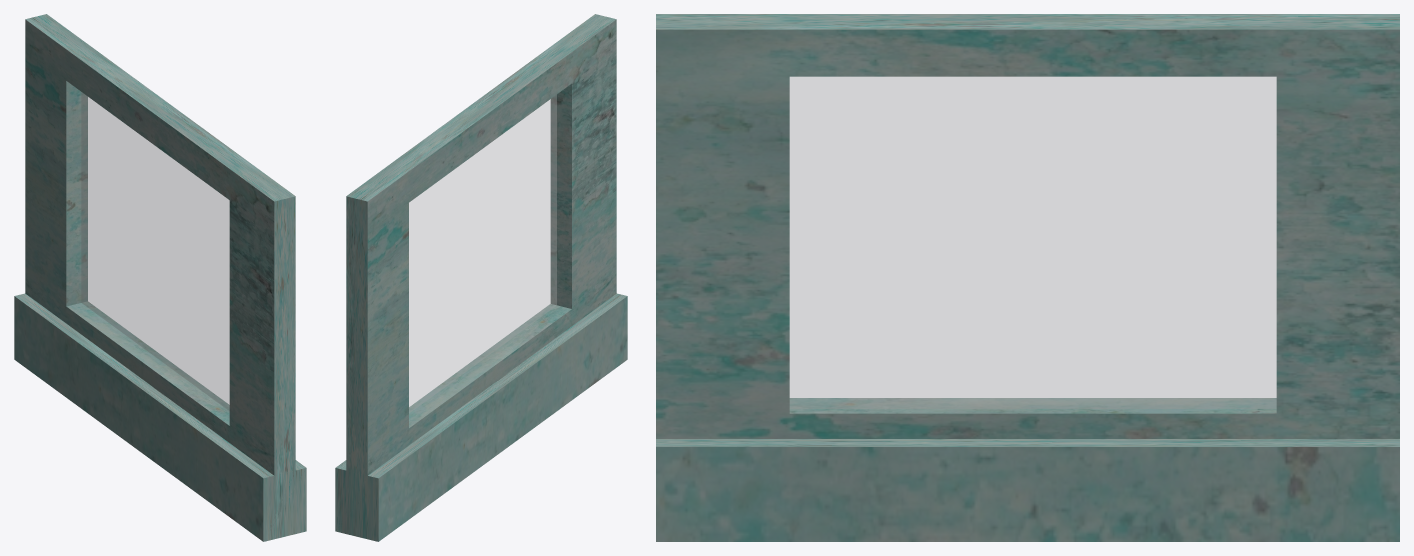
File: Wall_Lean.glb
3 views of the same model, side by side, from view 1: azimuth 30°, elevation 25°; view 2: azimuth 150°, elevation 25°; view 3: azimuth 270°, elevation 25° (orthographic). The views are drawn at different scales.
Parts seen in each view (by area): view 1: Wall Lean; view 2: Wall Lean; view 3: Wall Lean.
Boxes of the visible parts, x1,y1,x2,y2 form: Wall Lean: (14, 14, 306, 541); Wall Lean: (335, 14, 627, 541); Wall Lean: (656, 14, 1399, 541).
Bounding box in the file's own units: 0.2 × 1.5 × 2.
Materials: 2 (1 with a texture image).
